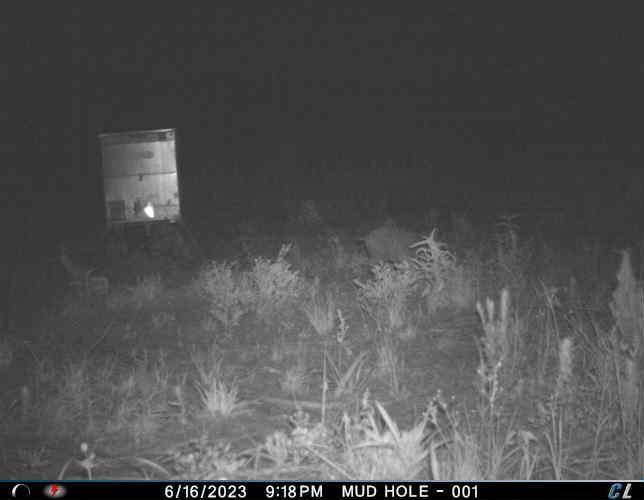Hog: (358, 223, 445, 272)
